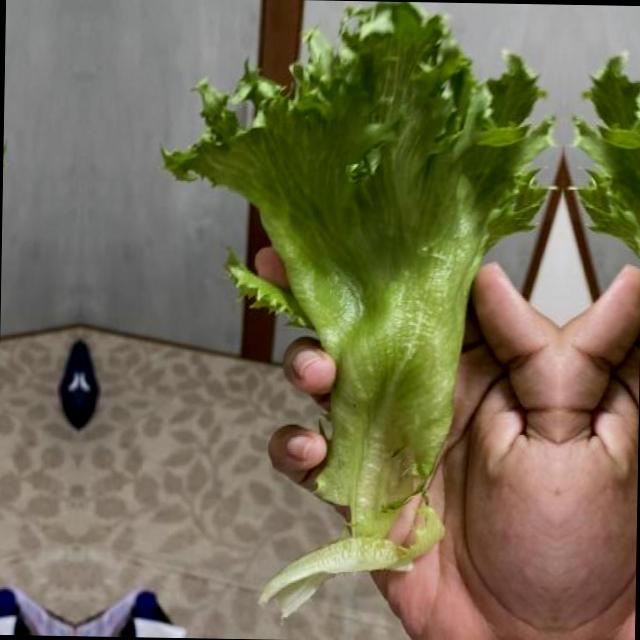healthy: (151, 0, 552, 595), (569, 4, 640, 596), (0, 0, 10, 585)
